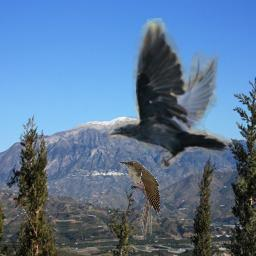Crow: (106, 18, 229, 169)
Cuckoo: (119, 160, 160, 235)
